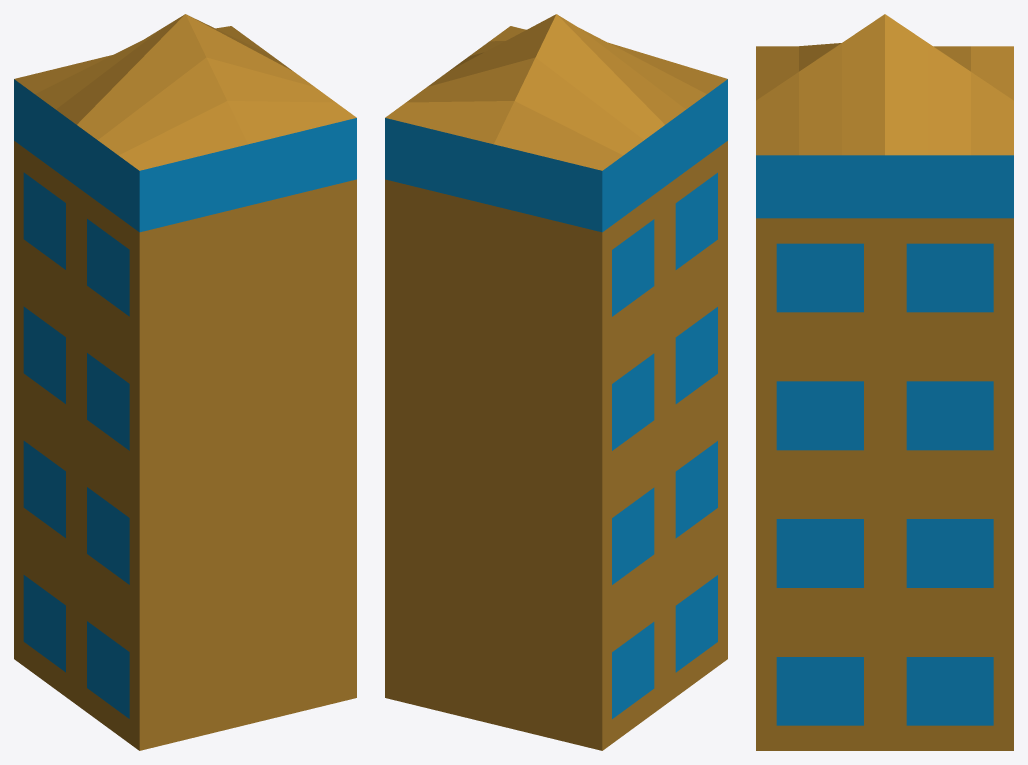
The model's file is Building10.fbx.
3 renders of one model, left to right at view 1: azimuth 30°, elevation 25°; view 2: azimuth 150°, elevation 25°; view 3: azimuth 270°, elevation 25°, orthographic. The views are drawn at different scales.
Parts seen in each view (by area): view 1: Cube; view 2: Cube; view 3: Cube.
Part boxes in pixels (bbox=[...]): Cube: bbox=[14, 14, 356, 750]; Cube: bbox=[385, 14, 727, 750]; Cube: bbox=[756, 14, 1013, 750].
Bounding box in the file's own units: 314 × 918 × 314.
